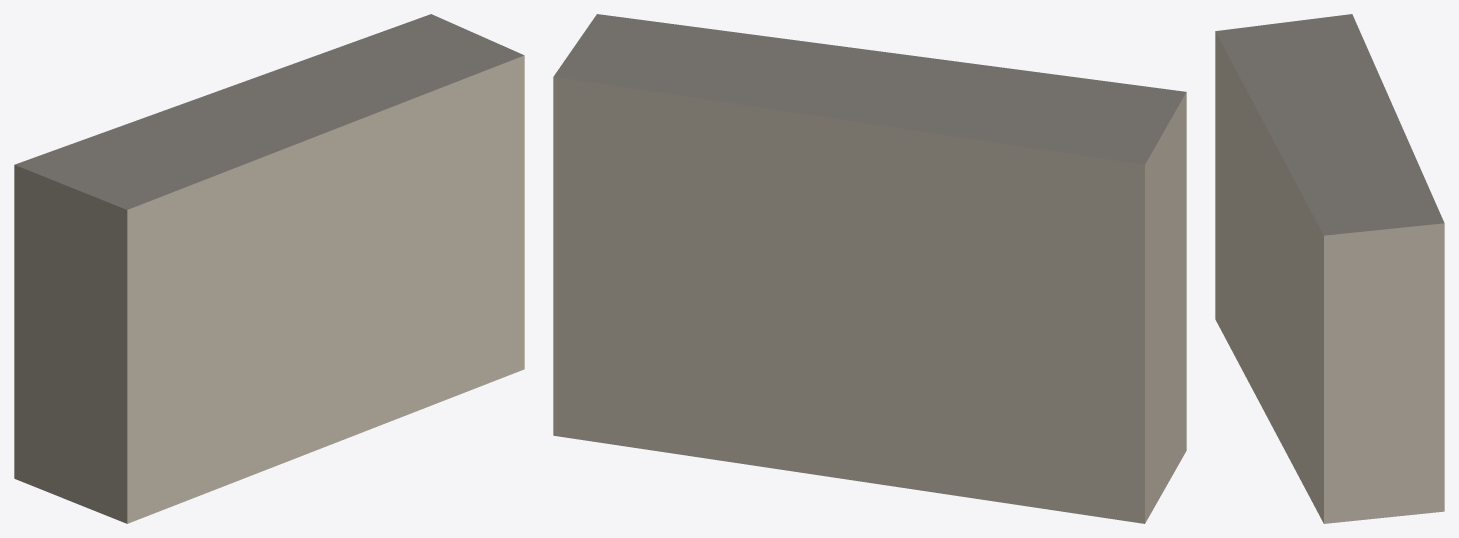
3 views of the same model, side by side, from view 1: azimuth 30°, elevation 25°; view 2: azimuth 150°, elevation 25°; view 3: azimuth 270°, elevation 25° (orthographic). The views are drawn at different scales.
Parts seen in each view (by area): view 1: HP-w446937268; view 2: HP-w446937268; view 3: HP-w446937268.
Part boxes in pixels (<box>): HP-w446937268: <box>14,14,524,523</box>; HP-w446937268: <box>553,14,1186,523</box>; HP-w446937268: <box>1215,14,1444,523</box>.
Size of the model in its own units: 29.68 by 18 by 12.97.
